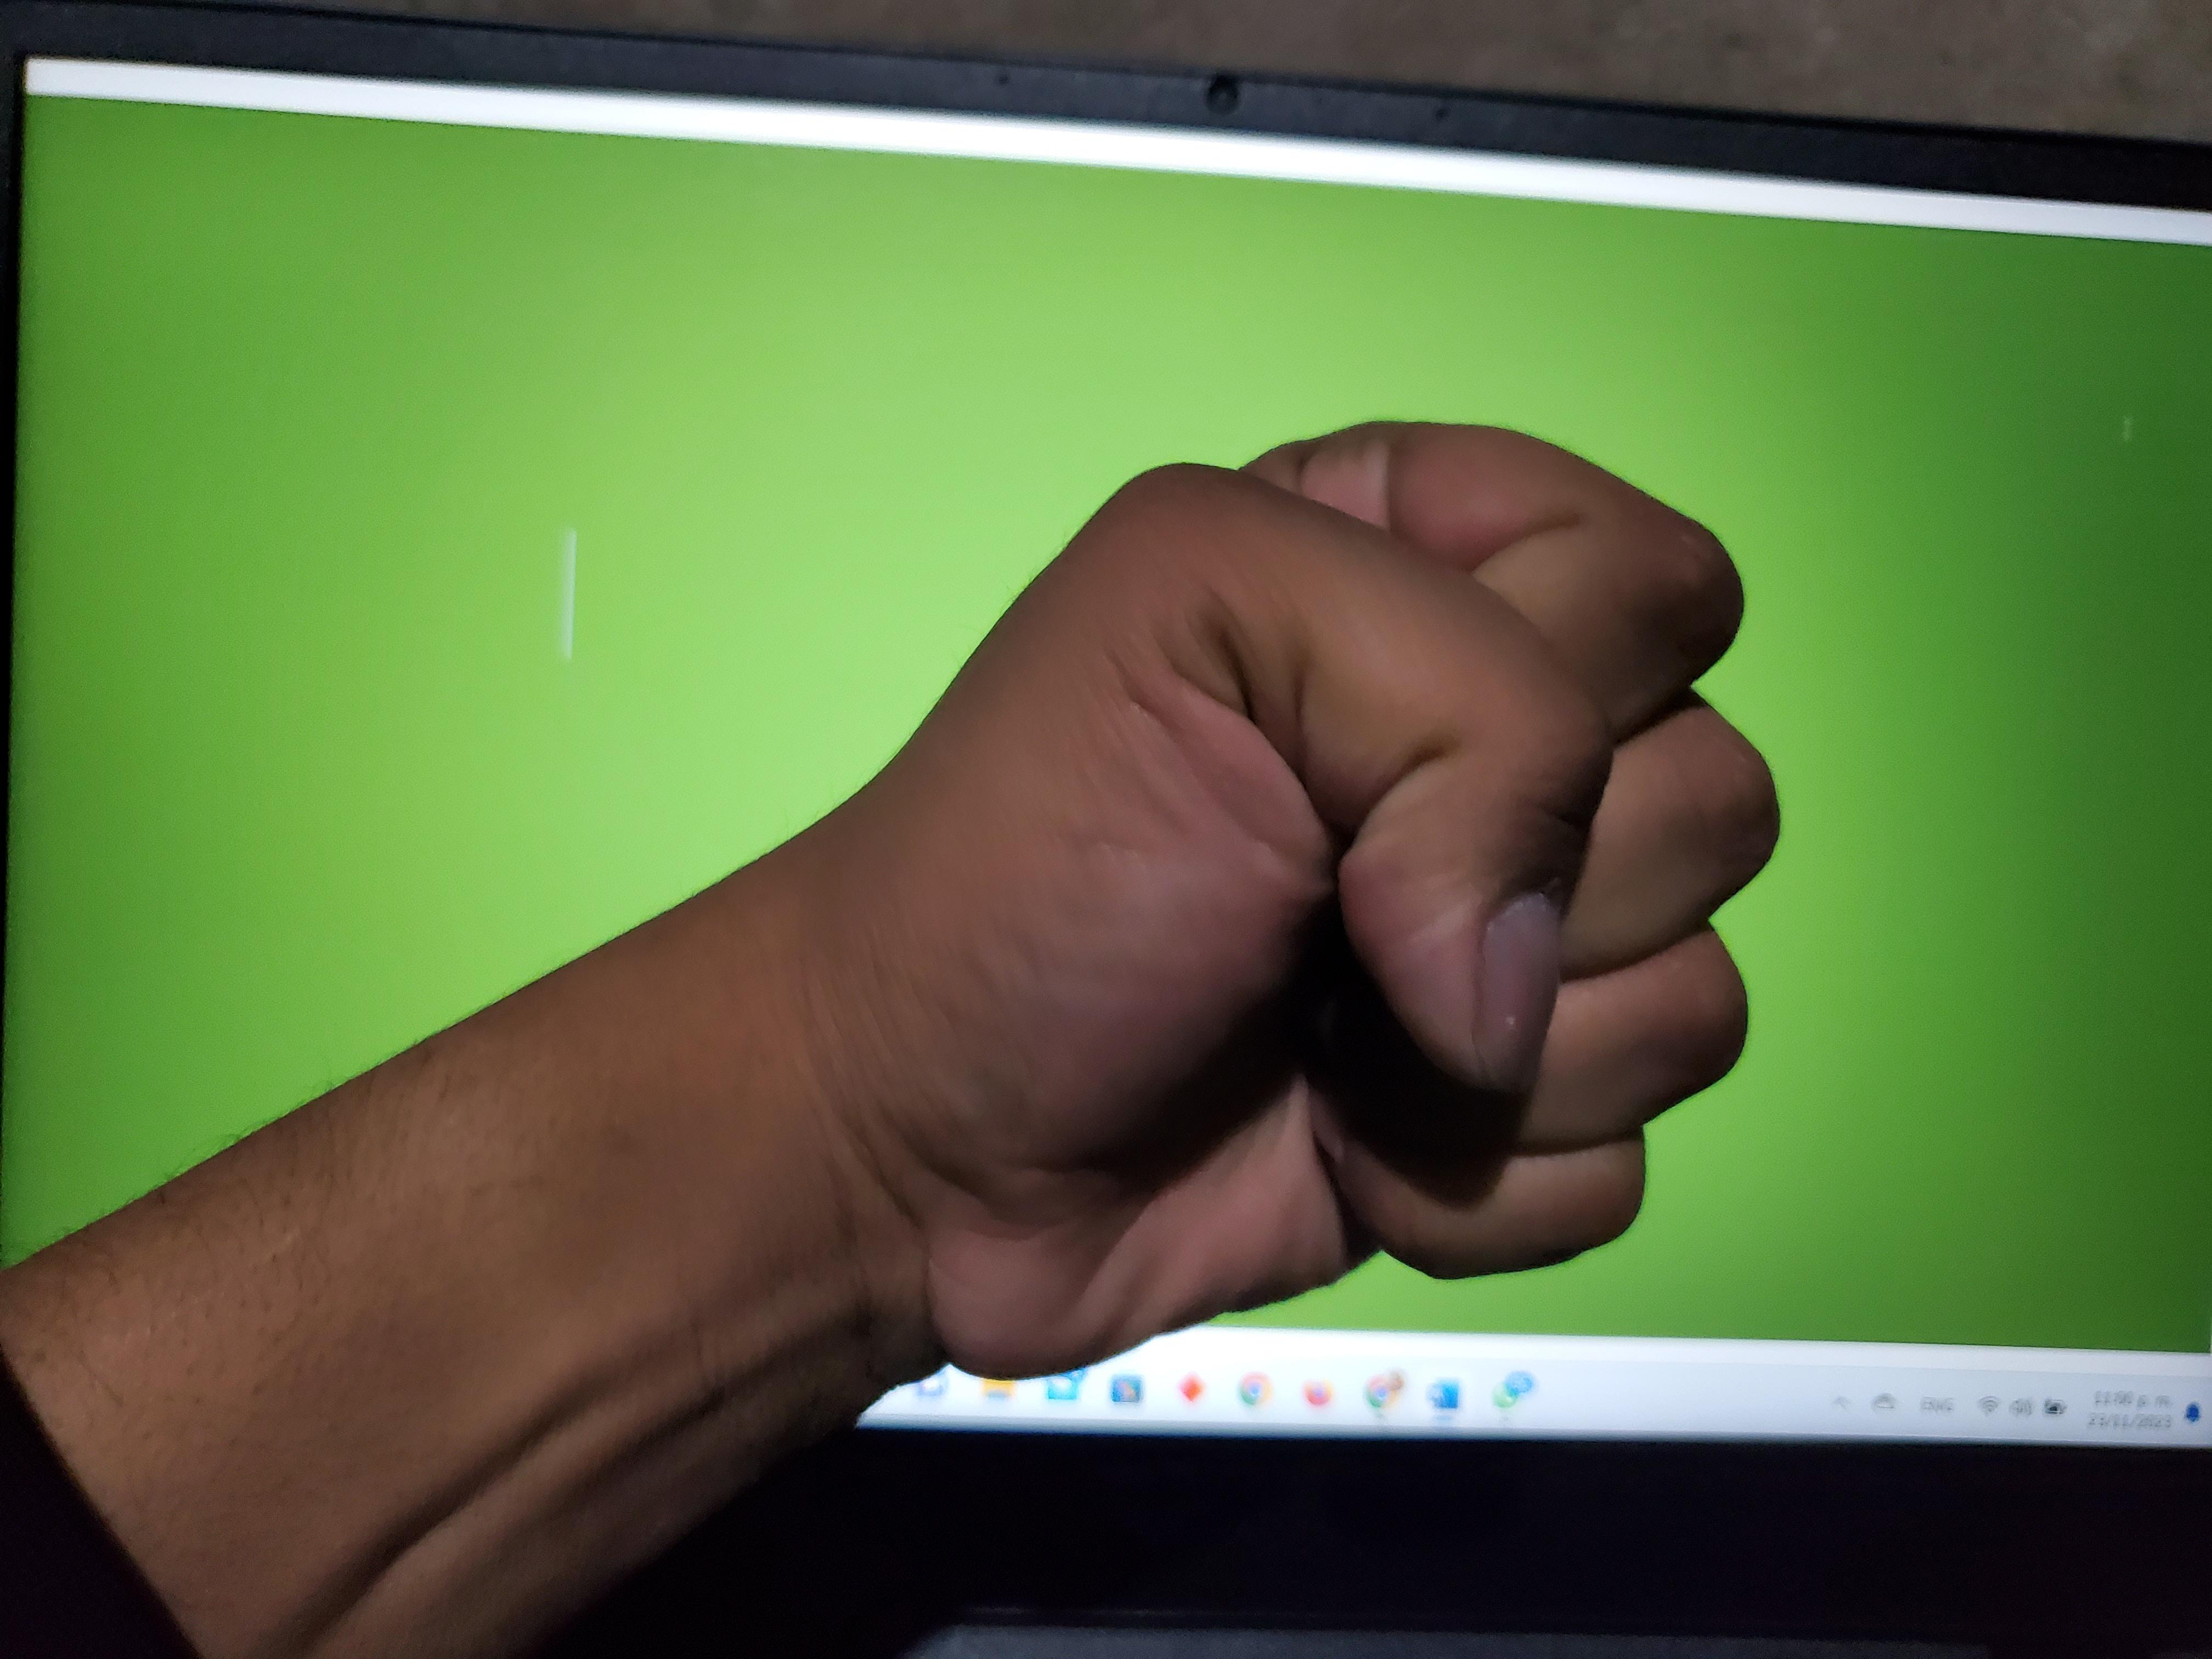Stone: (418, 281, 2085, 1588)
